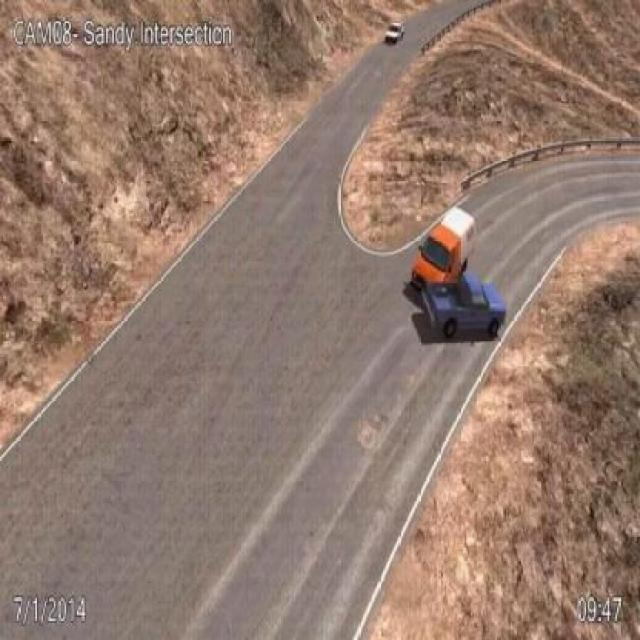accident: (414, 231, 469, 332)
